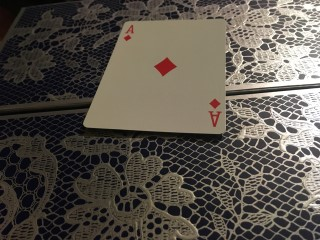AceOfDiamonds: (83, 19, 226, 134)
